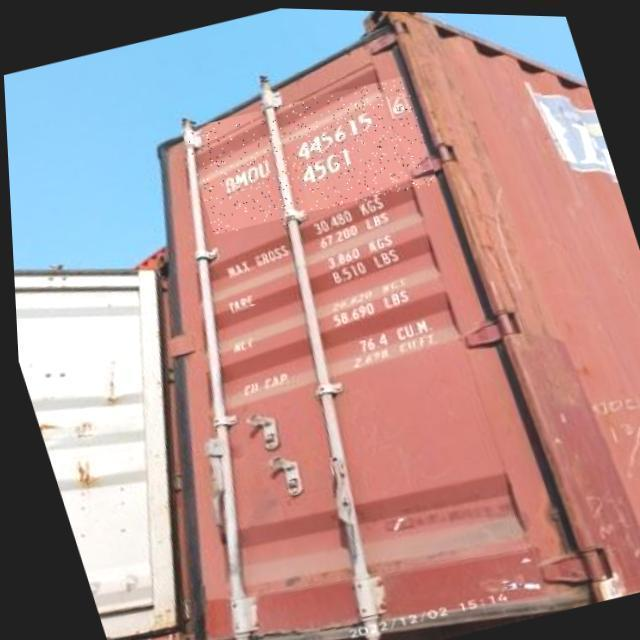ISO: (296, 142, 352, 186)
container_number: (210, 96, 409, 197)
